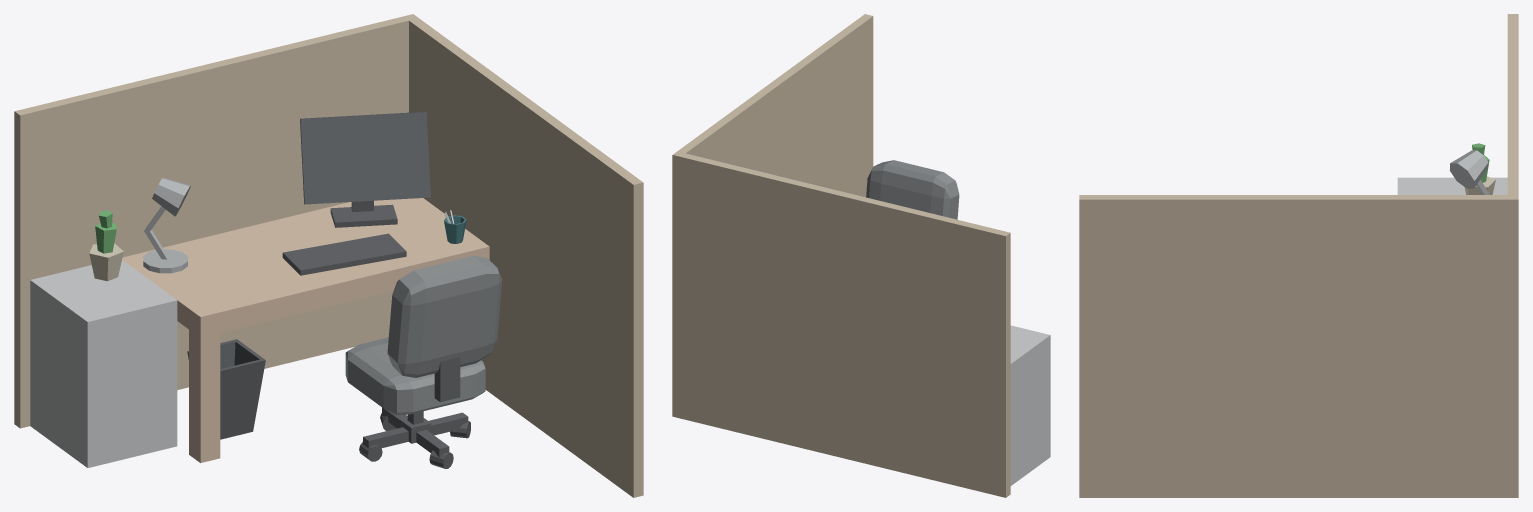
File: Cubicle.glb
The picture shows the model from 3 angles, left to right: view 1: azimuth 30°, elevation 25°; view 2: azimuth 150°, elevation 25°; view 3: azimuth 270°, elevation 25°; orthographic projection. The views are drawn at different scales.
Parts seen in each view (by area): view 1: Mesh_Mesh_head_geo.001_lambert2SG.001; view 2: Mesh_Mesh_head_geo.001_lambert2SG.001; view 3: Mesh_Mesh_head_geo.001_lambert2SG.001.
Part boxes in pixels (x1,y1,x2,y2): Mesh_Mesh_head_geo.001_lambert2SG.001: (14, 14, 643, 497); Mesh_Mesh_head_geo.001_lambert2SG.001: (672, 14, 1050, 497); Mesh_Mesh_head_geo.001_lambert2SG.001: (1079, 14, 1518, 497).
Size of the model in its own units: 0.08 by 0.06 by 0.08.
